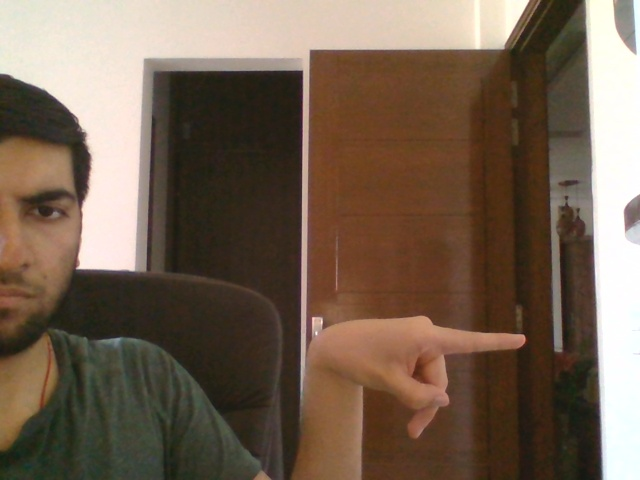LetterP: (309, 314, 528, 441)
